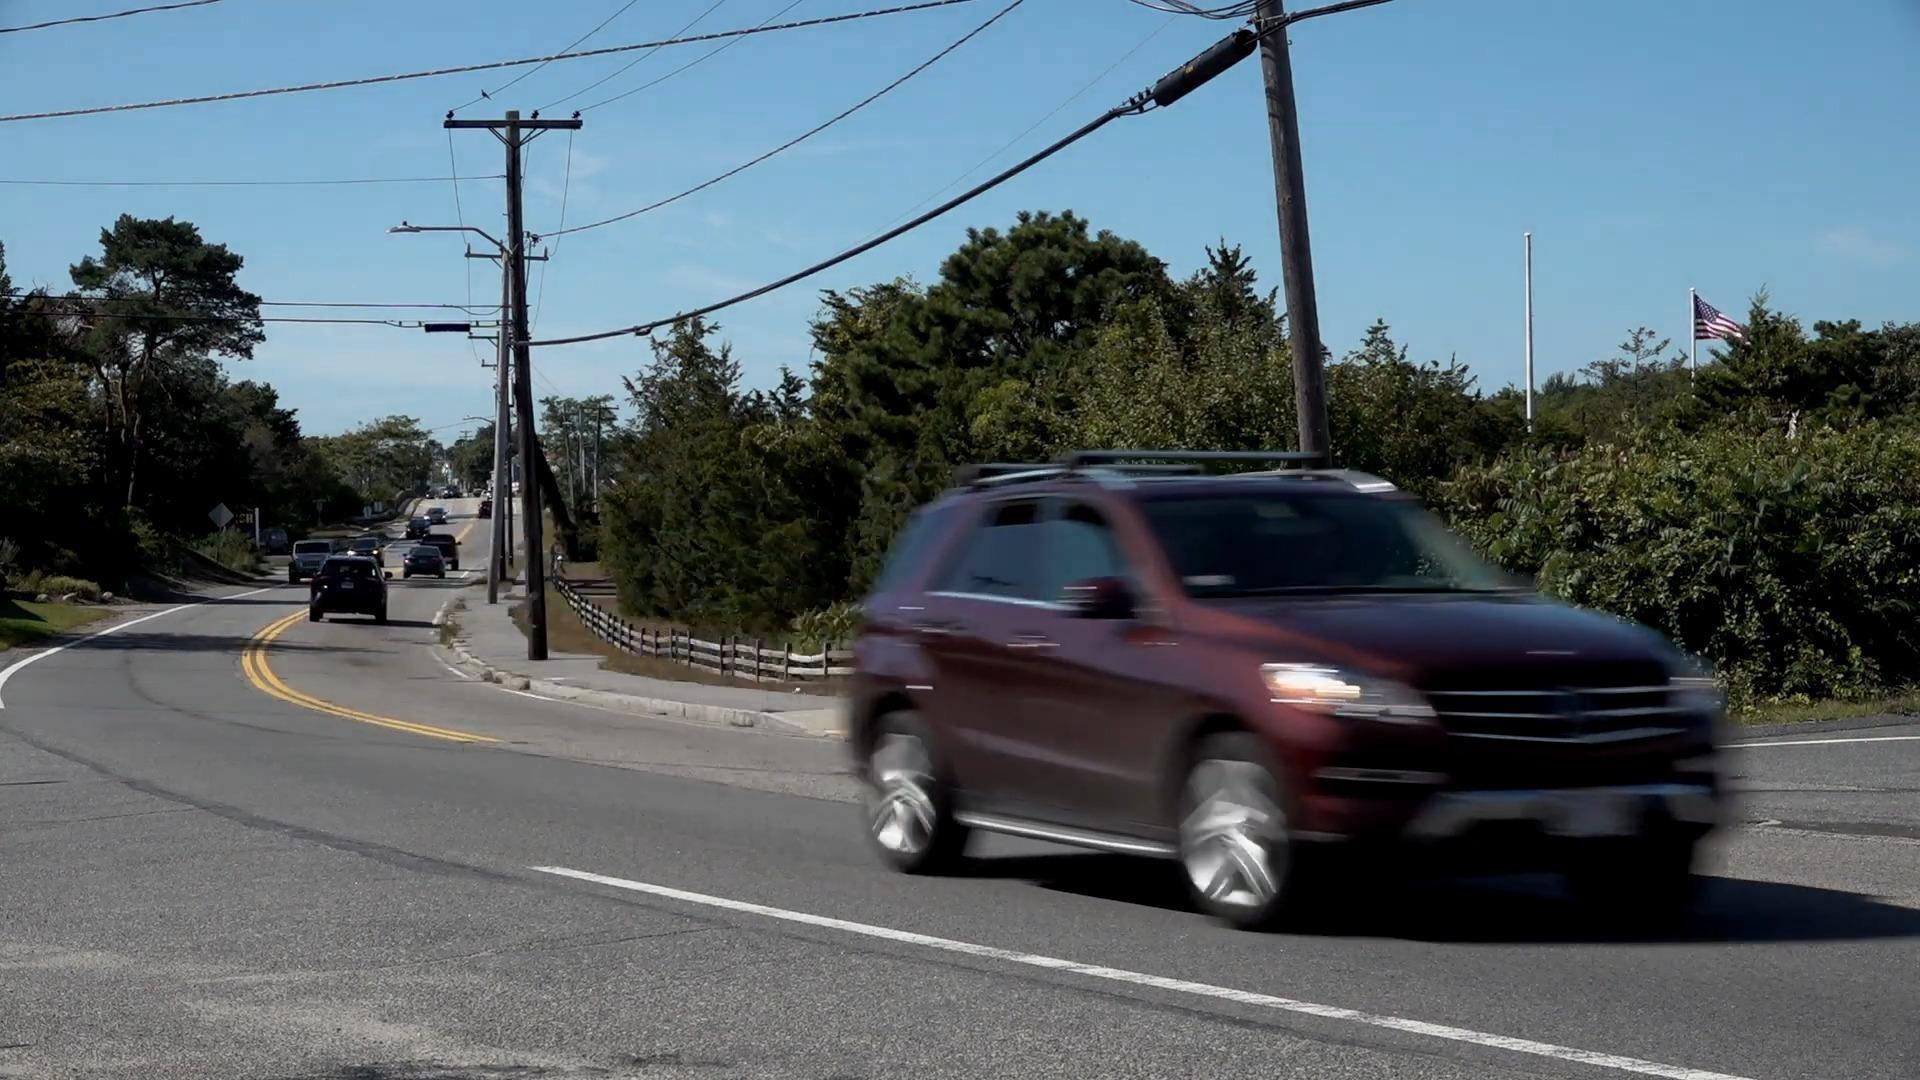suv: (847, 454, 1725, 924), (309, 554, 389, 625)
